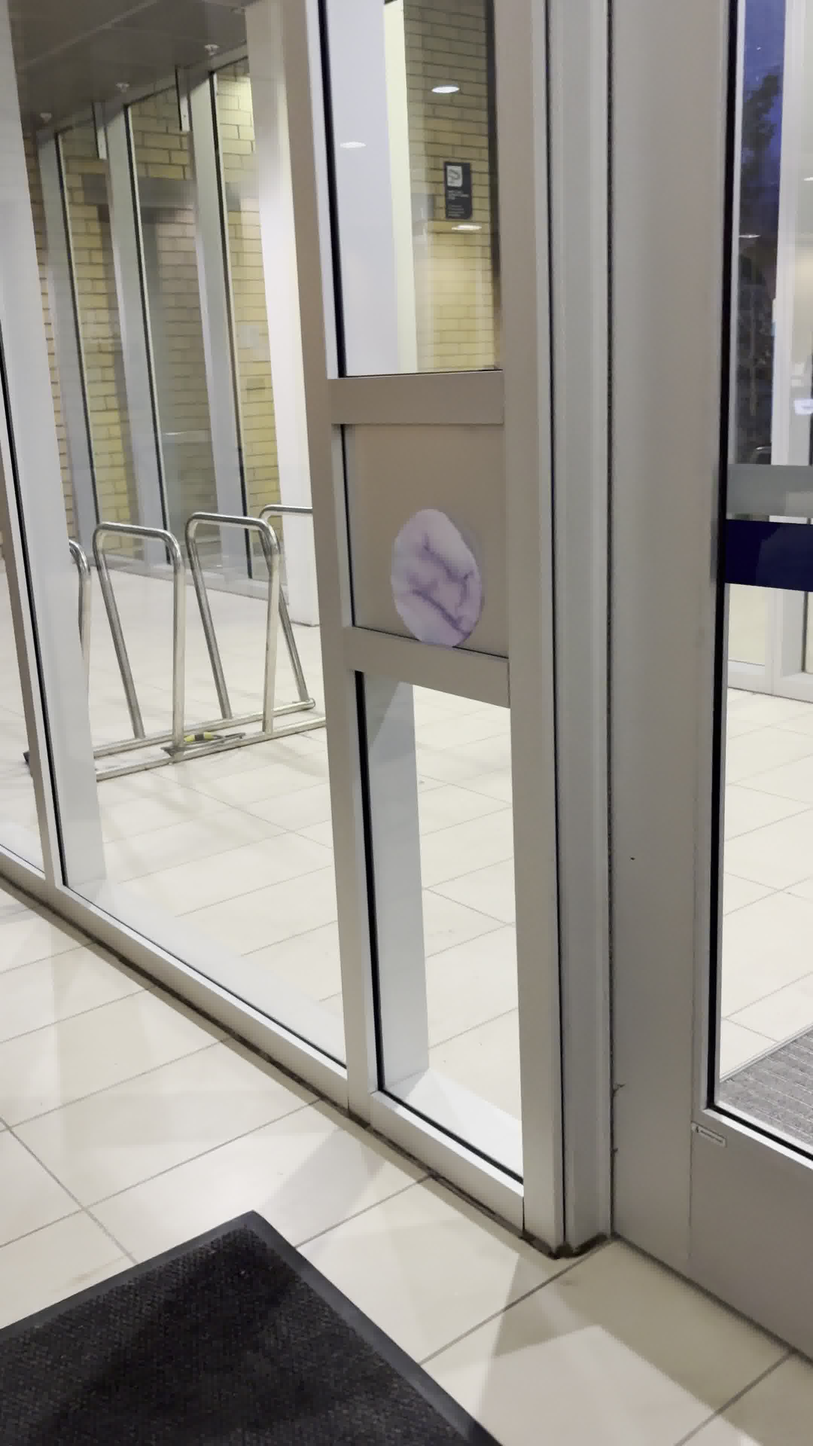Target: (386, 504, 482, 650)
